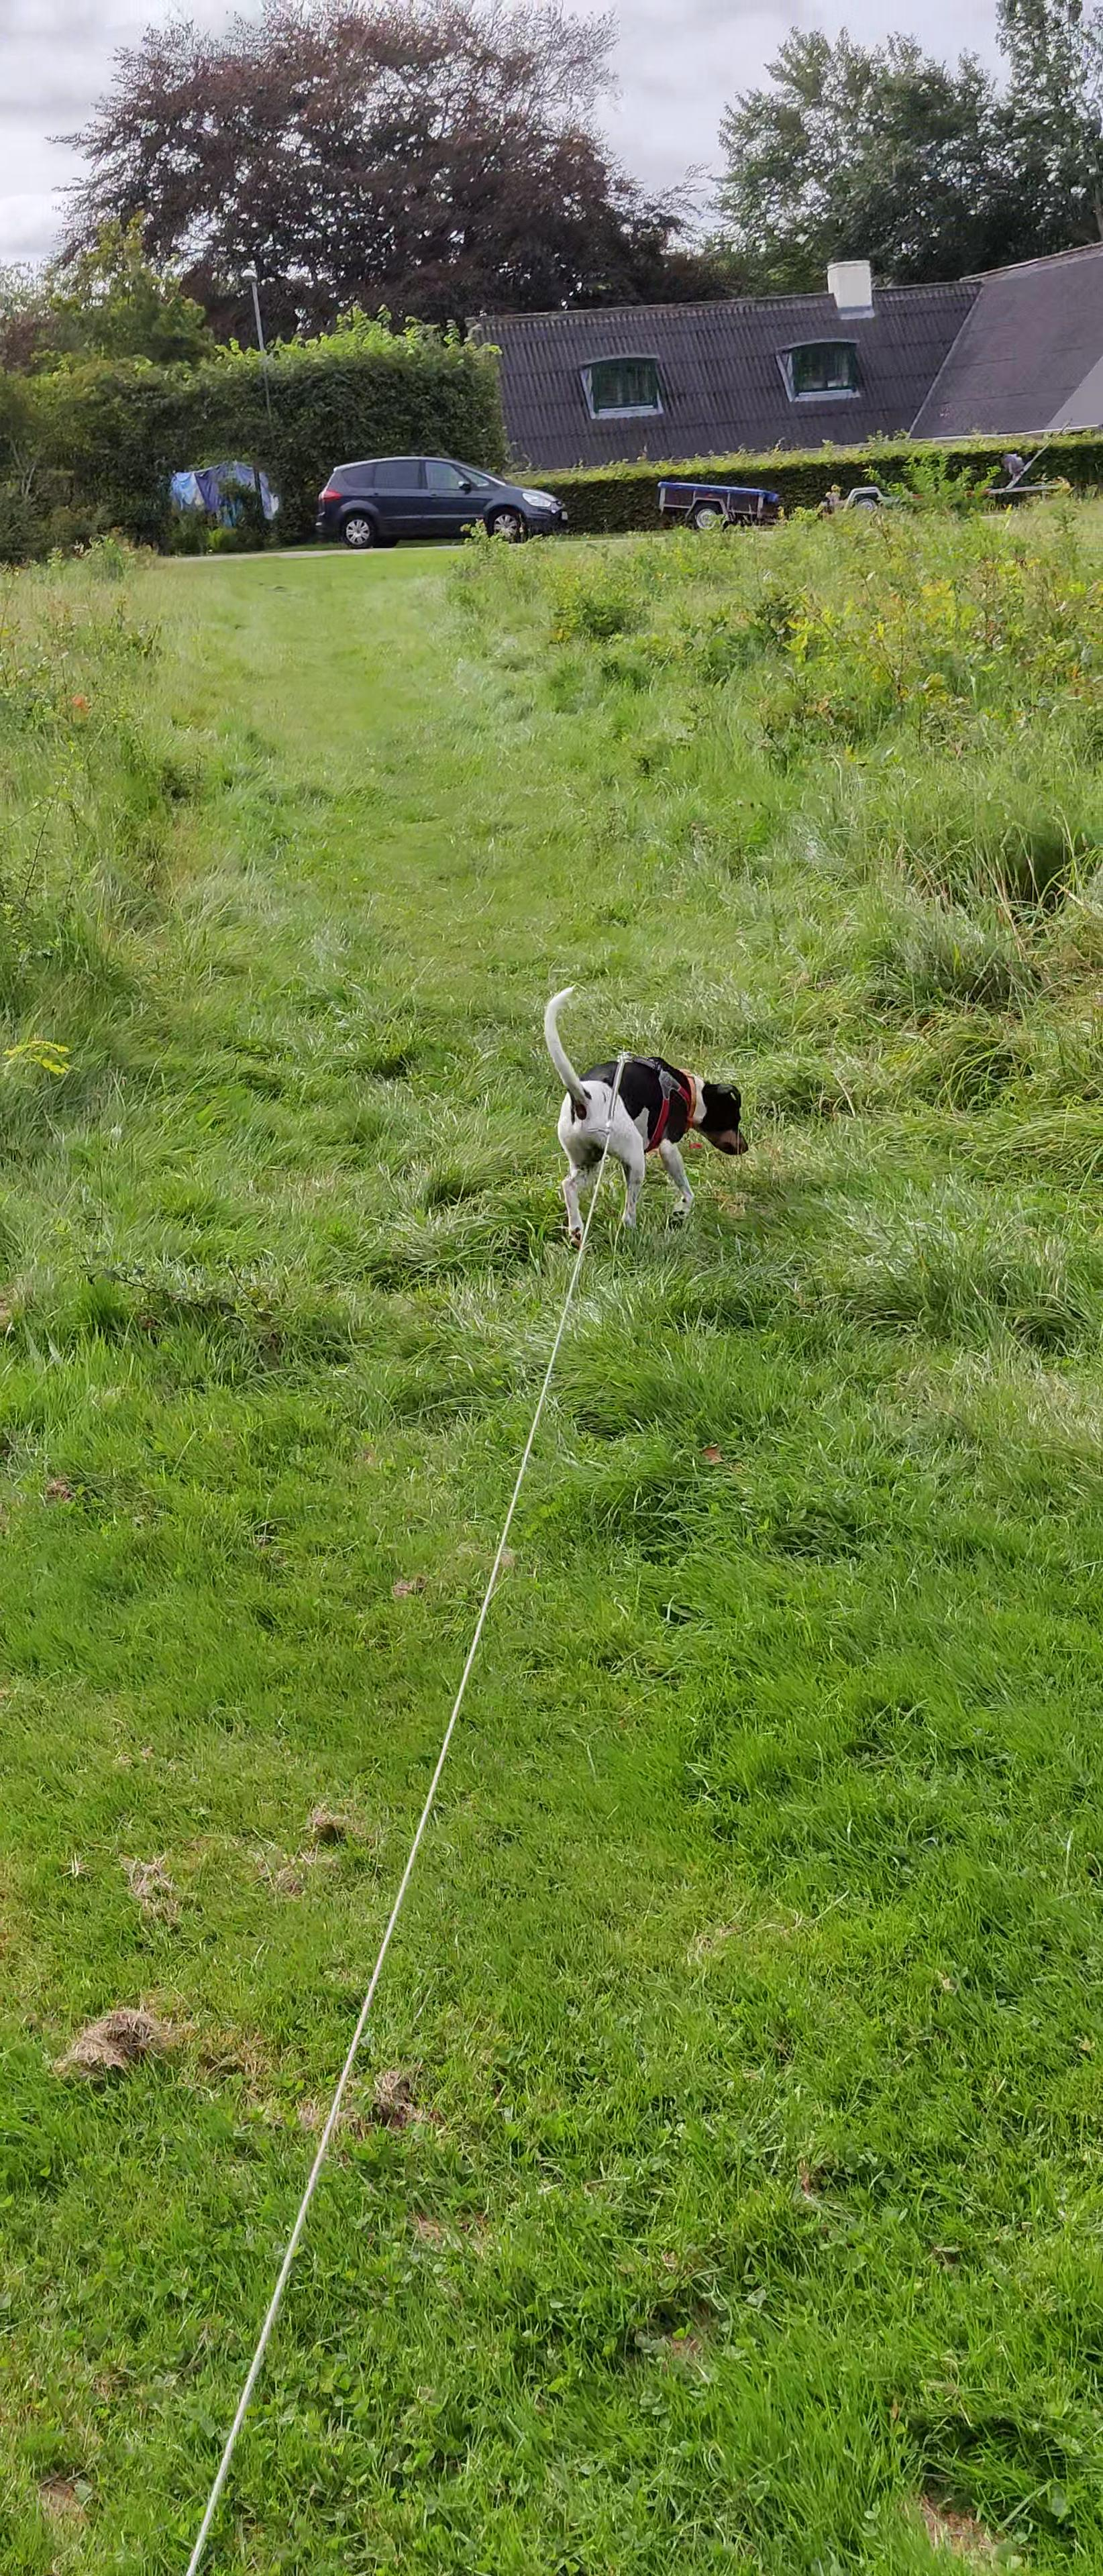Dog: (523, 974, 759, 1255)
